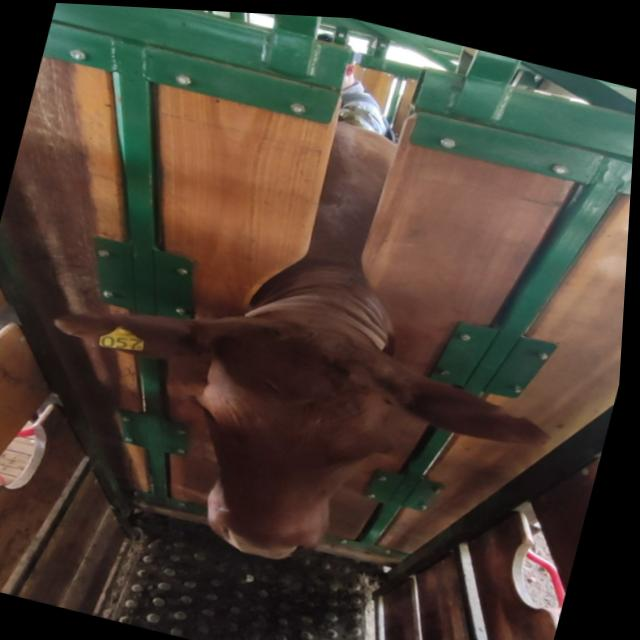cowFace: (164, 299, 416, 578)
